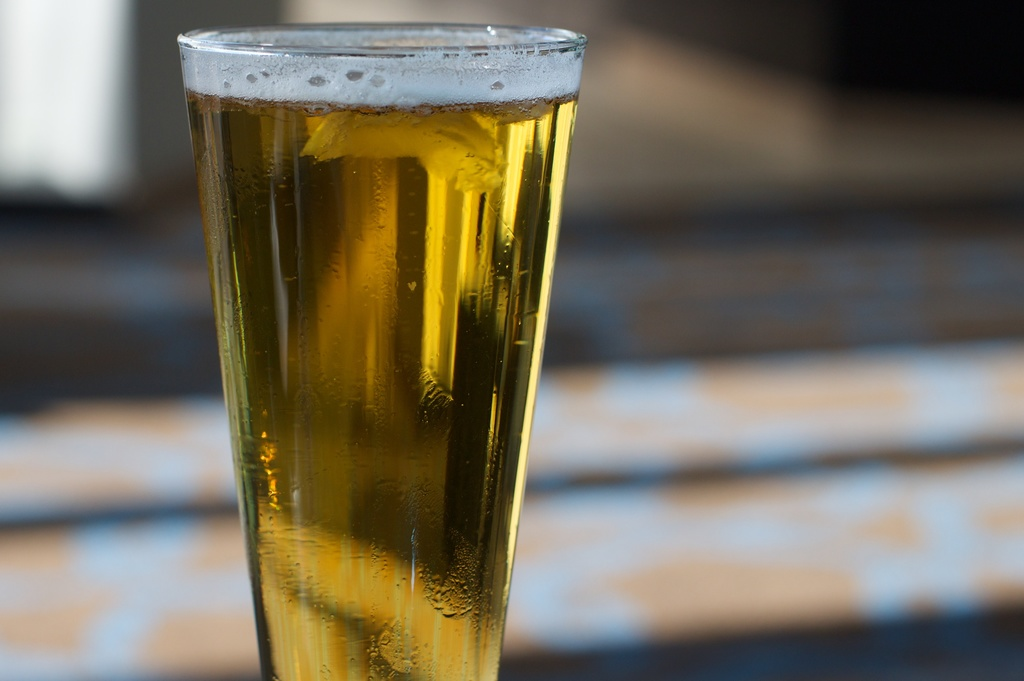Beer: (187, 63, 582, 680)
